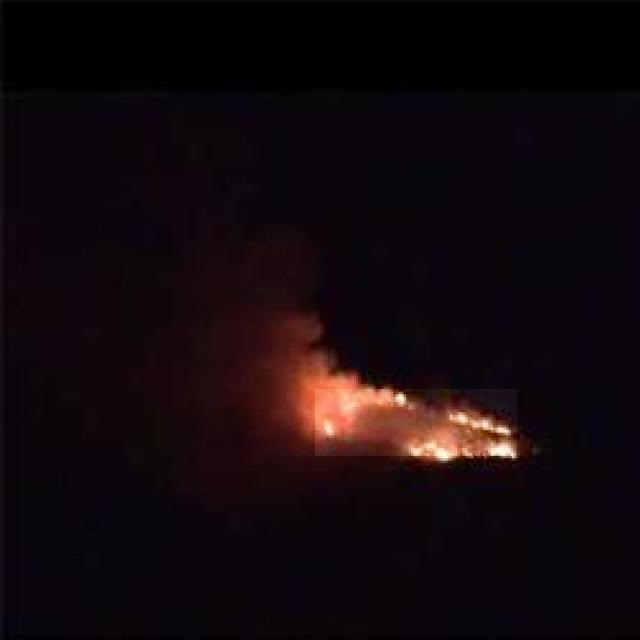Fire: (316, 389, 518, 456)
